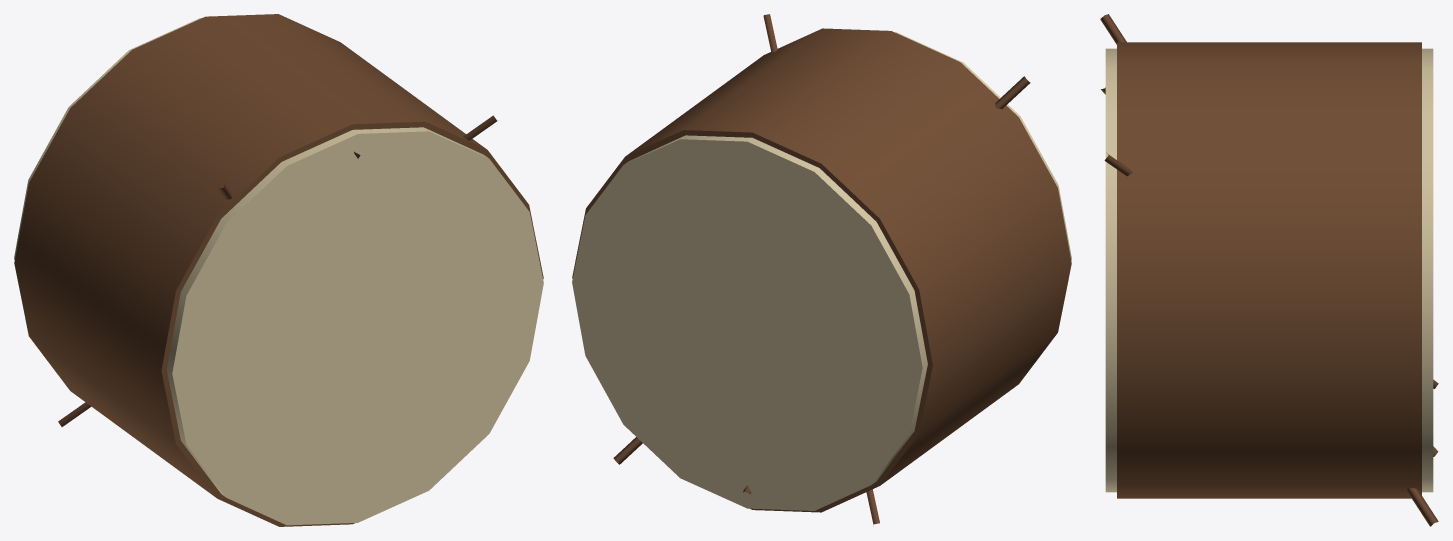
Rendered from drum.glb.
3 renders of one model, left to right at view 1: azimuth 30°, elevation 25°; view 2: azimuth 150°, elevation 25°; view 3: azimuth 270°, elevation 25°, orthographic. The views are drawn at different scales.
Parts seen in each view (by area): view 1: drum-head (×2), drum-shell; view 2: drum-head (×2), drum-shell, drum-lacing; view 3: drum-shell, drum-head (×2), drum-lacing.
Boxes of the visible parts, x1,y1,x2,y2 form: drum-head (×2): (14,18,543,525); drum-shell: (14,14,543,526); drum-head (×2): (572,32,1071,510); drum-shell: (572,28,1071,512); drum-lacing: (613,76,1030,464); drum-shell: (1117,42,1421,498); drum-head (×2): (1105,48,1433,492); drum-lacing: (1100,14,1438,526).
Size of the model in its own units: 0.36 by 0.36 by 0.2668.
